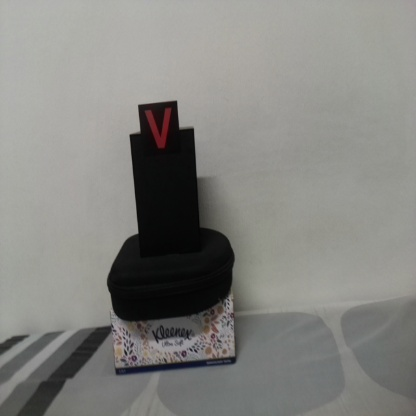id_11: (138, 104, 179, 158)
